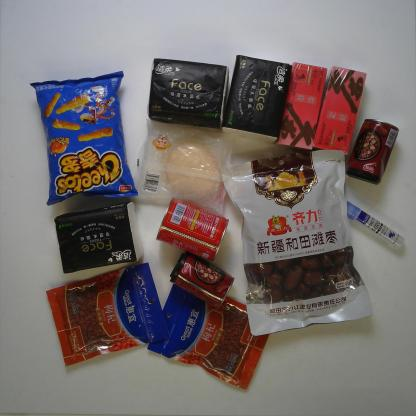Canned Food: (156, 196, 230, 260), (169, 252, 234, 309), (346, 118, 399, 185)
Dessert: (132, 115, 242, 217)
Dried Food: (221, 150, 373, 336)
Dried Fruit: (147, 275, 276, 391), (45, 262, 171, 366)
Instant Drink: (313, 66, 367, 156), (274, 63, 327, 150)
Puffed Food: (29, 71, 138, 205)
Stationery: (341, 200, 405, 250)
Tissue: (54, 202, 145, 273), (222, 56, 292, 143), (148, 59, 230, 130)
